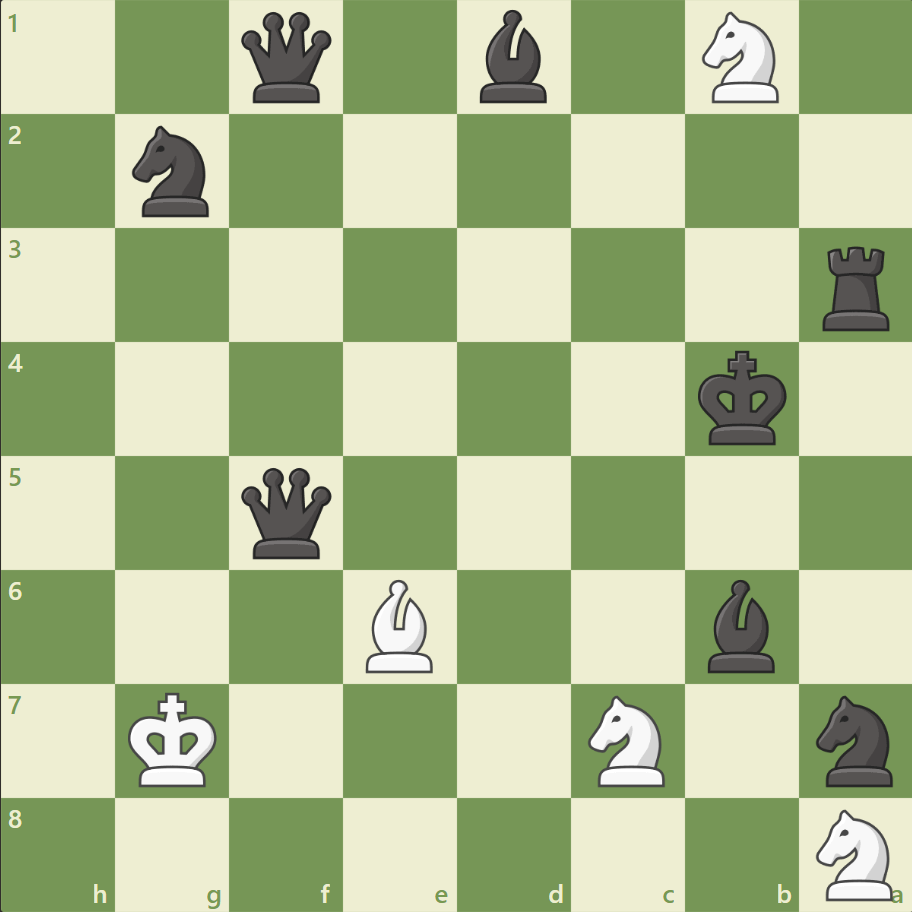B: (358, 574, 442, 676)
K: (124, 685, 224, 793)
N: (579, 688, 676, 791), (692, 7, 789, 110), (806, 802, 903, 904)
b: (471, 6, 555, 109), (698, 574, 782, 676)
k: (692, 344, 792, 452)
n: (124, 121, 222, 223), (806, 688, 903, 791)
q: (237, 463, 336, 562), (237, 9, 336, 108)
r: (814, 239, 897, 336)
